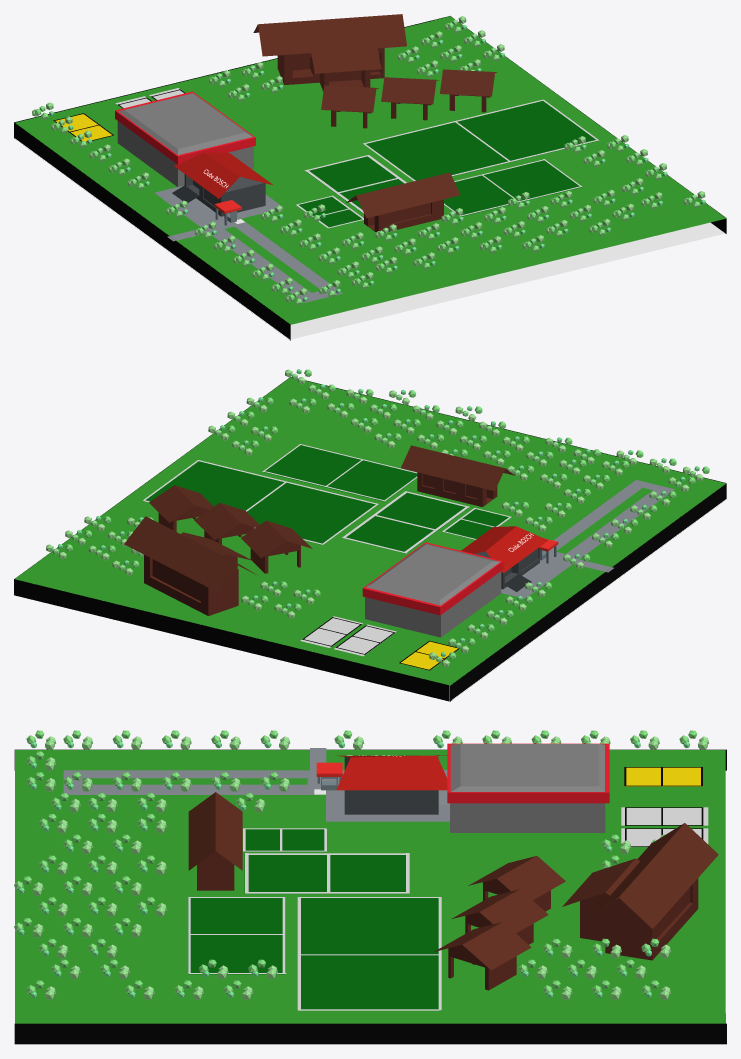
File: attmedia1.glb
3 views of the same model, one above another, from view 1: azimuth 30°, elevation 25°; view 2: azimuth 150°, elevation 25°; view 3: azimuth 270°, elevation 25° (orthographic). The views are drawn at different scales.
Parts seen in each view (by area): view 1: Plane.074, Plane.075, Plane.147, Plane.163, Cube.012, Plane.138, Cube.104, Plane.132, Cube.015, Plane.080, Cube.016, Cube.106 (+51 smaller); view 2: Plane.074, Plane.075, Cube.012, Plane.147, Plane.111, Plane.138, Plane.132, Cube.104, Plane.080, Cube.105, Cube.015, Cube.016 (+41 smaller); view 3: Plane.074, Plane.075, Plane.039, Plane.147, Cube.012, Plane.132, Plane.080, Cube.104, Cube.016, Cube.105, Cube.015, Plane.095 (+83 smaller).
Boxes of the visible parts, x1=… form: Plane.074: x1=452, y1=134, x2=711, y2=249; Plane.075: x1=247, y1=200, x2=520, y2=295; Plane.147: x1=366, y1=101, x2=597, y2=180; Plane.163: x1=14, y1=138, x2=724, y2=339; Cube.012: x1=117, y1=93, x2=253, y2=186; Plane.138: x1=14, y1=122, x2=290, y2=340; Cube.104: x1=253, y1=14, x2=406, y2=56; Plane.132: x1=444, y1=160, x2=581, y2=216; Cube.015: x1=346, y1=172, x2=460, y2=218; Plane.080: x1=306, y1=156, x2=404, y2=213; Cube.016: x1=174, y1=152, x2=273, y2=198; Cube.106: x1=309, y1=37, x2=381, y2=73; Plane.074: x1=175, y1=388, x2=449, y2=498; Plane.075: x1=372, y1=434, x2=640, y2=540; Cube.012: x1=365, y1=543, x2=501, y2=637; Plane.147: x1=143, y1=461, x2=375, y2=544; Plane.111: x1=14, y1=579, x2=449, y2=701; Plane.138: x1=450, y1=483, x2=726, y2=701; Plane.132: x1=263, y1=445, x2=417, y2=501; Cube.104: x1=124, y1=516, x2=257, y2=591; Plane.080: x1=344, y1=492, x2=467, y2=553; Cube.105: x1=144, y1=555, x2=238, y2=615; Cube.015: x1=401, y1=445, x2=515, y2=490; Cube.016: x1=461, y1=526, x2=548, y2=573; Plane.074: x1=52, y1=914, x2=311, y2=1023; Plane.075: x1=52, y1=795, x2=311, y2=904; Plane.039: x1=14, y1=1023, x2=726, y2=1044; Plane.147: x1=301, y1=898, x2=441, y2=1010; Cube.012: x1=450, y1=744, x2=605, y2=832; Plane.132: x1=188, y1=898, x2=285, y2=974; Plane.080: x1=244, y1=853, x2=408, y2=893; Cube.104: x1=585, y1=823, x2=718, y2=928; Cube.016: x1=336, y1=755, x2=447, y2=790; Cube.105: x1=605, y1=878, x2=698, y2=960; Cube.015: x1=188, y1=792, x2=242, y2=870; Plane.095: x1=369, y1=836, x2=546, y2=852.
Bounding box in the file's own units: 265 × 40.63 × 289.
